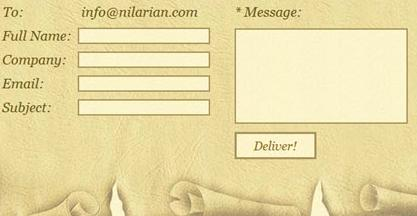button: (235, 131, 316, 159)
field: (233, 27, 409, 124), (75, 26, 211, 44), (75, 74, 210, 92), (77, 98, 210, 116), (76, 51, 211, 68)
field_with_label: (2, 24, 214, 45), (3, 97, 212, 118), (3, 73, 212, 93), (2, 50, 213, 69)
